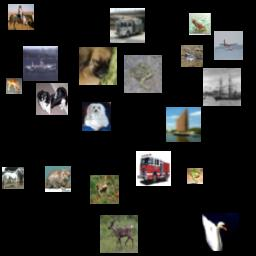airplane: (214, 31, 243, 60)
bird: (201, 213, 239, 251), (181, 45, 203, 67)
cat: (45, 166, 71, 192)
deer: (100, 215, 138, 253), (6, 78, 22, 94)
dog: (79, 47, 117, 85), (36, 83, 68, 115), (82, 102, 111, 131)
frog: (124, 55, 162, 93), (90, 175, 119, 204), (189, 13, 211, 35), (187, 168, 203, 184)
ship: (203, 68, 241, 106), (166, 107, 201, 142), (23, 46, 58, 81)
truck: (110, 8, 145, 43), (136, 151, 171, 186)
